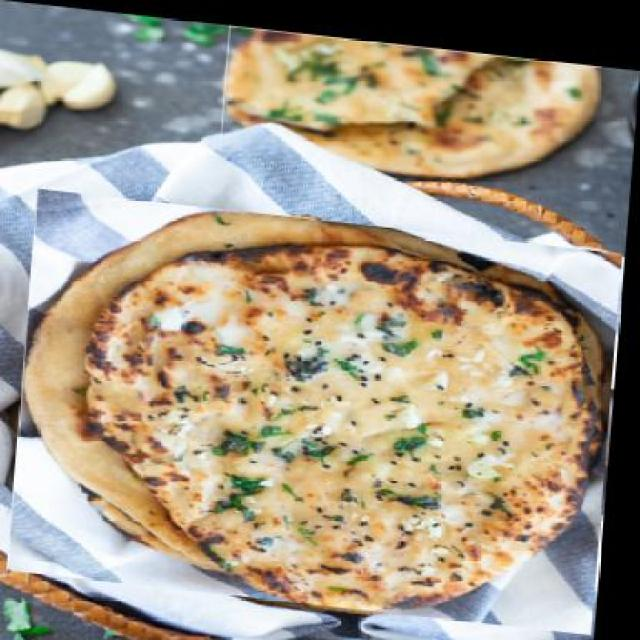chapati: (16, 185, 627, 622), (222, 20, 603, 180)
